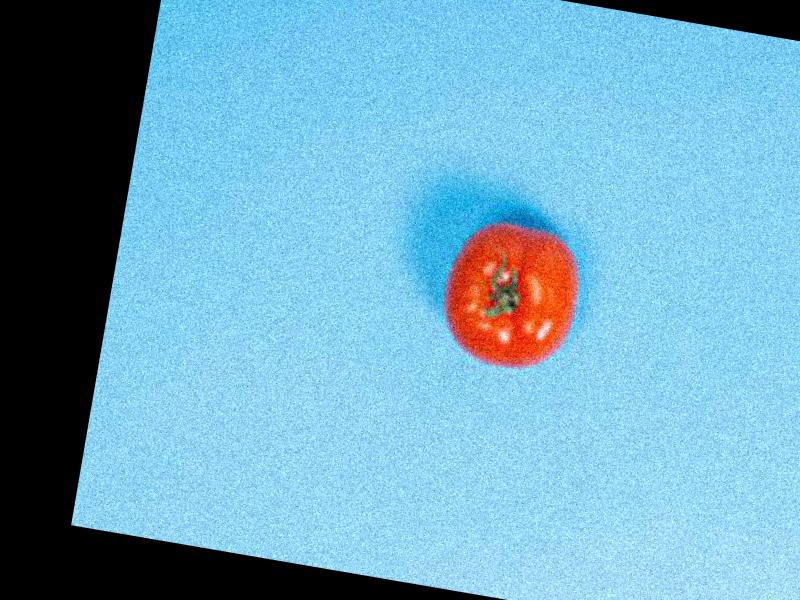Tomato: (430, 214, 586, 379)
